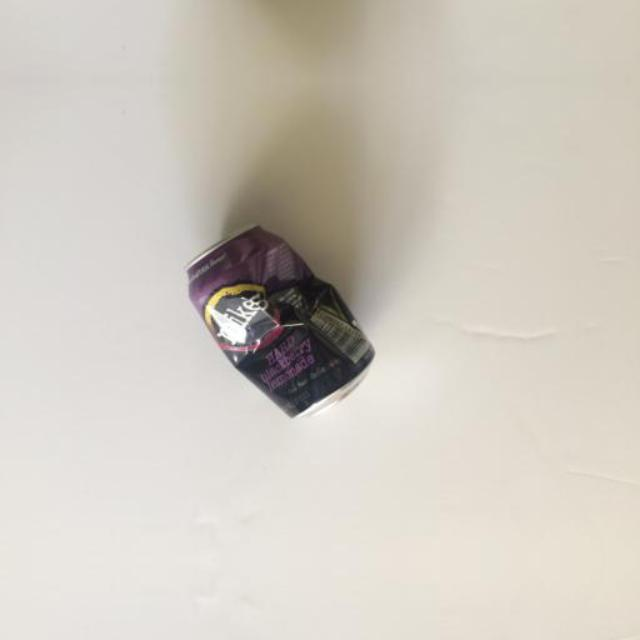Metal: (106, 208, 432, 444)
